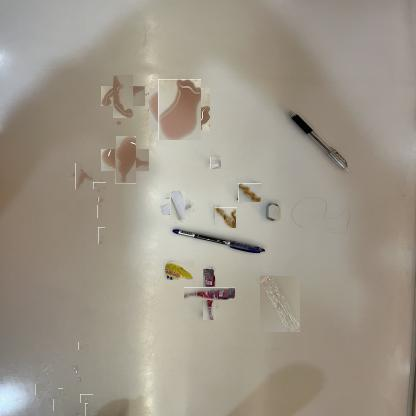dirty: (260, 276, 300, 332), (193, 278, 226, 310), (166, 196, 190, 219), (165, 262, 193, 280), (216, 207, 238, 228), (238, 183, 261, 202), (210, 157, 221, 169)
liquid: (153, 84, 206, 136), (108, 143, 143, 178), (107, 80, 139, 112), (71, 168, 89, 185), (72, 364, 84, 384), (37, 382, 51, 397), (42, 363, 53, 375), (98, 227, 105, 244), (80, 394, 93, 403), (55, 391, 66, 401), (80, 407, 92, 416), (95, 180, 104, 191), (79, 342, 89, 351), (52, 401, 62, 410), (97, 204, 102, 218), (115, 120, 121, 126), (98, 197, 103, 202)
